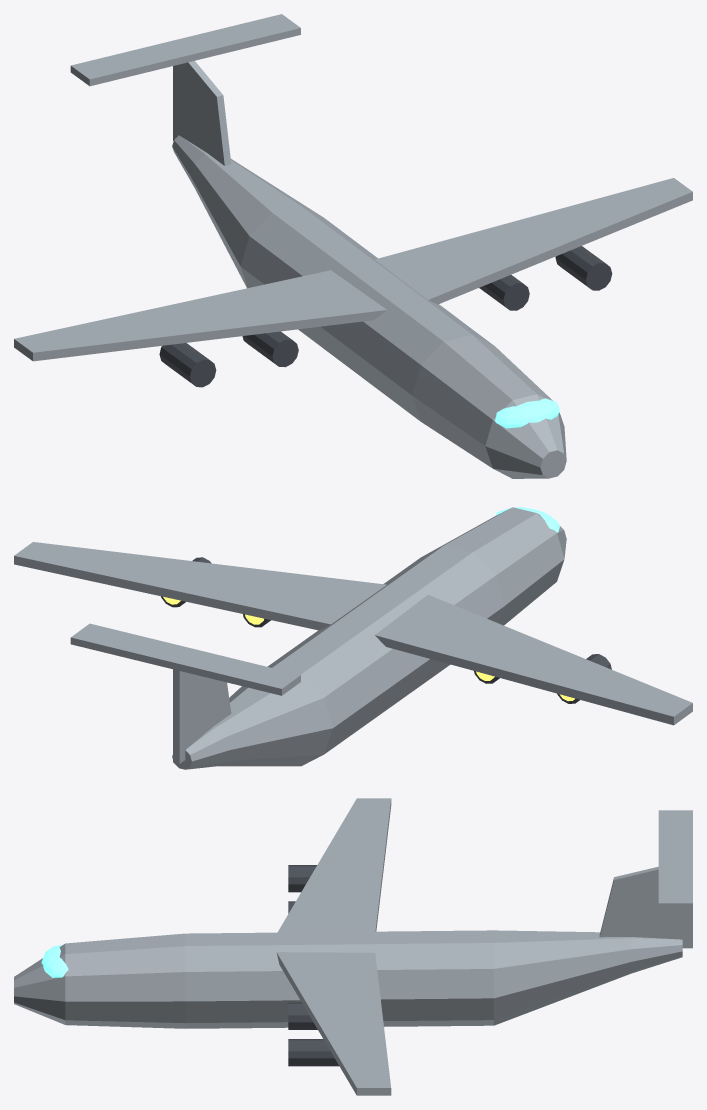
Rendered from transport.glb.
The picture shows the model from 3 angles, top to bottom: view 1: azimuth 30°, elevation 25°; view 2: azimuth 150°, elevation 25°; view 3: azimuth 270°, elevation 25°; orthographic projection. The views are drawn at different scales.
Parts seen in each view (by area): view 1: transport; view 2: transport; view 3: transport.
Boxes of the visible parts, x1,y1,x2,y2 form: transport: (14, 14, 692, 478); transport: (14, 507, 692, 769); transport: (14, 798, 692, 1095).
Bounding box in the file's own units: 1 × 0.2666 × 0.99.
